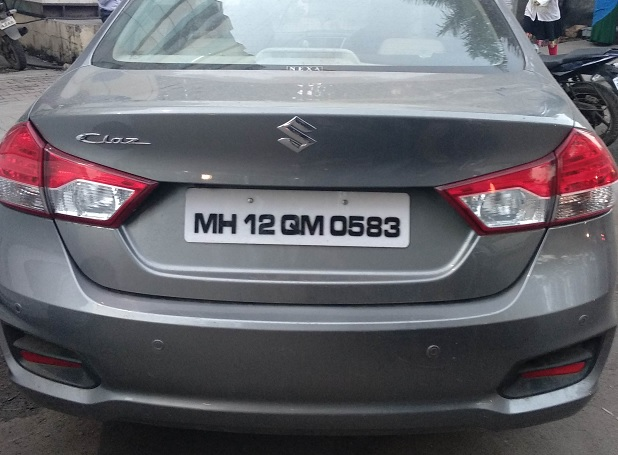licenseplate: (181, 182, 414, 247)
